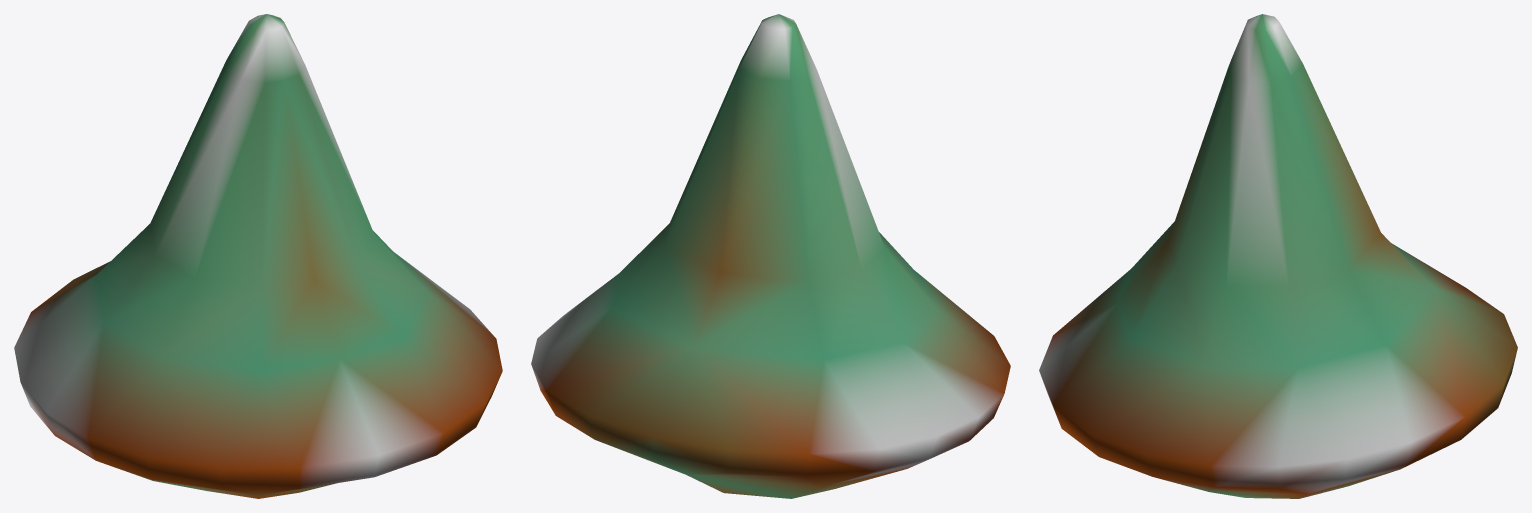
The model's file is S01_Plant02_L1_Horn.glb.
3 renders of one model, left to right at view 1: azimuth 30°, elevation 25°; view 2: azimuth 150°, elevation 25°; view 3: azimuth 270°, elevation 25°, orthographic.
Parts seen in each view (by area): view 1: S01_Plant02_L1_Horn__Horn_T__lod0; view 2: S01_Plant02_L1_Horn__Horn_T__lod0; view 3: S01_Plant02_L1_Horn__Horn_T__lod0.
Boxes of the visible parts, bbox=[...] form: S01_Plant02_L1_Horn__Horn_T__lod0: bbox=[14, 14, 502, 498]; S01_Plant02_L1_Horn__Horn_T__lod0: bbox=[531, 14, 1010, 498]; S01_Plant02_L1_Horn__Horn_T__lod0: bbox=[1039, 14, 1517, 498].
Bounding box in the file's own units: 32.2 × 33.59 × 31.76.
